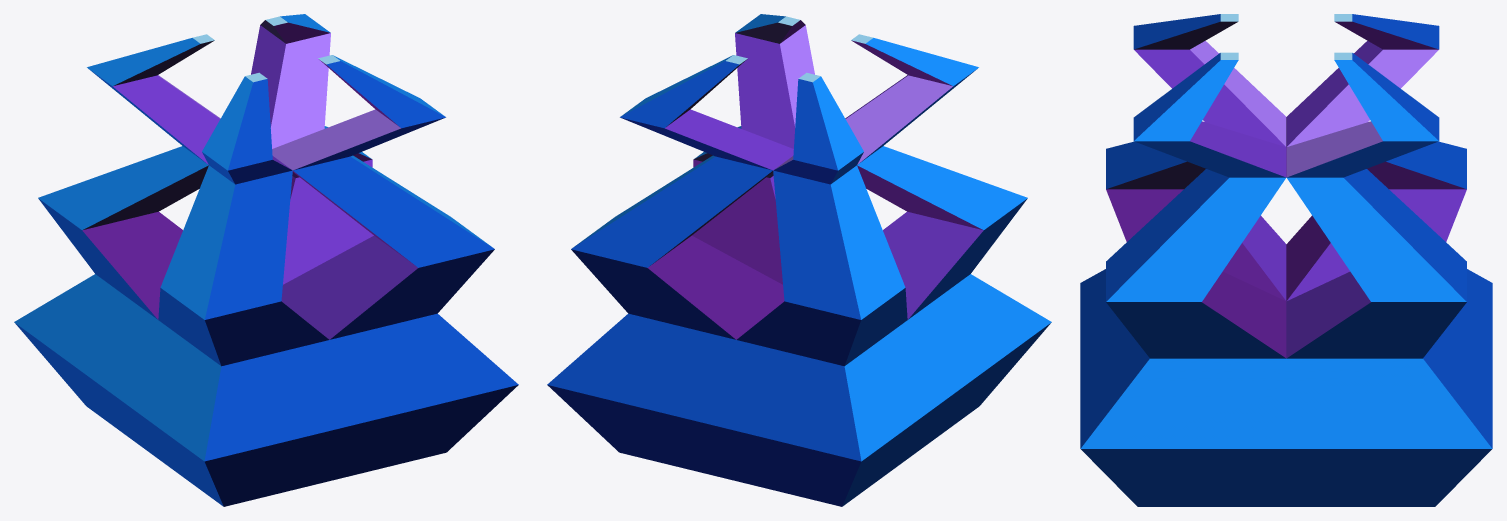
Rendered from Totem.fbx.
The picture shows the model from 3 angles, left to right: view 1: azimuth 30°, elevation 25°; view 2: azimuth 150°, elevation 25°; view 3: azimuth 270°, elevation 25°; orthographic projection. The views are drawn at different scales.
Visible parts, largest first — view 1: Cube; view 2: Cube; view 3: Cube.
Part boxes in pixels (x1,y1,x2,y2): Cube: (14,14,518,506); Cube: (547,14,1051,506); Cube: (1080,14,1492,506).
Size of the model in its own units: 408 by 471 by 428.
